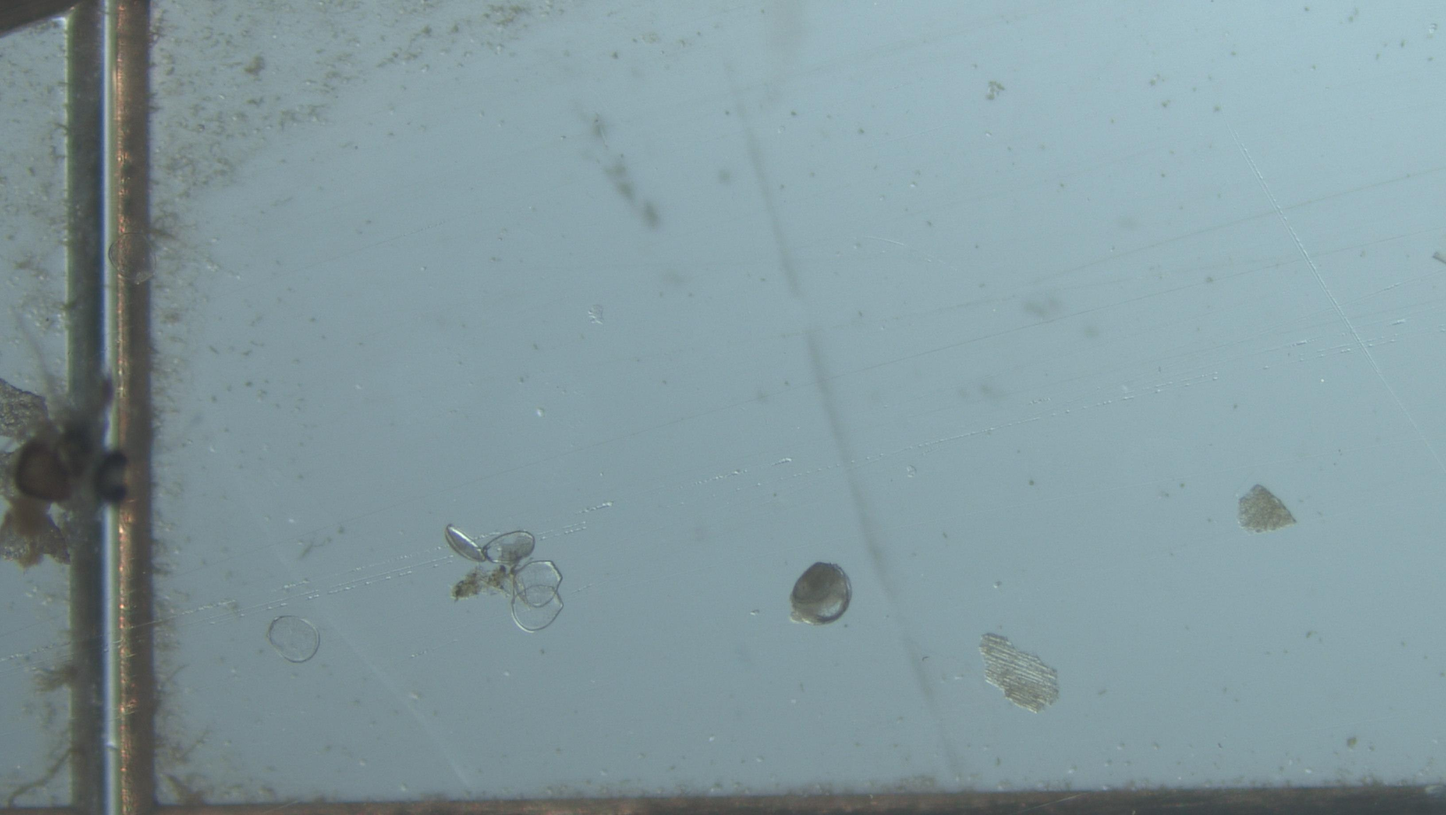dead: (268, 616, 321, 664), (515, 562, 562, 609), (511, 593, 563, 633), (484, 531, 535, 567)
live: (791, 563, 851, 625)
